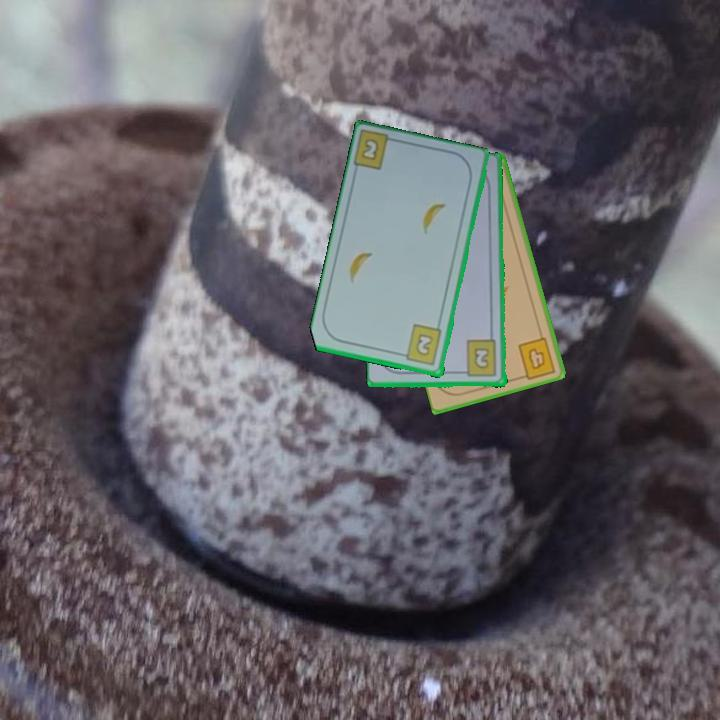2b: (397, 321, 445, 368), (458, 337, 499, 380), (358, 137, 380, 164)
4b: (515, 333, 558, 382)
